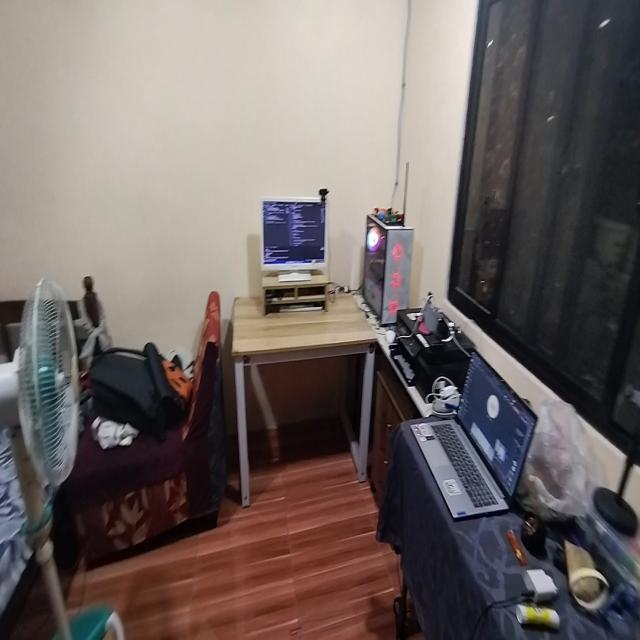table: (228, 284, 384, 512)
